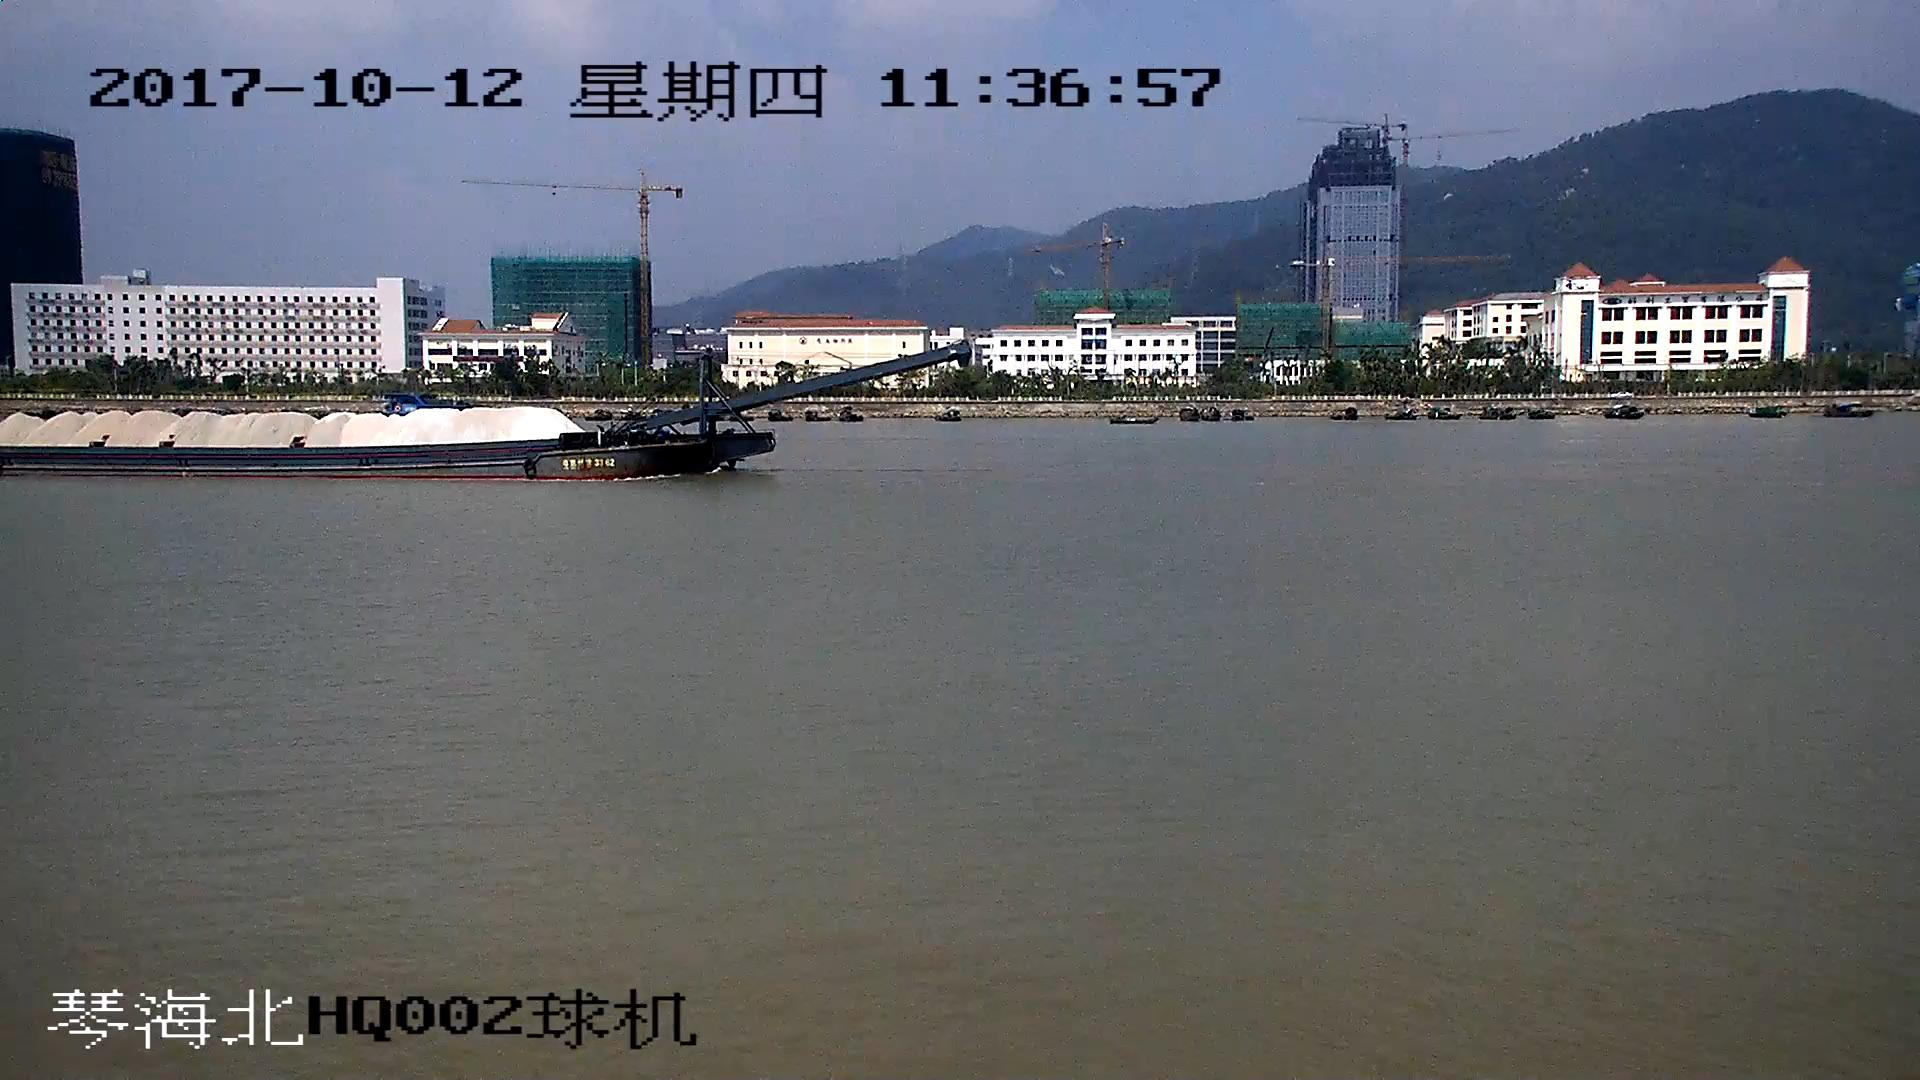ore carrier: (1, 344, 967, 476)
